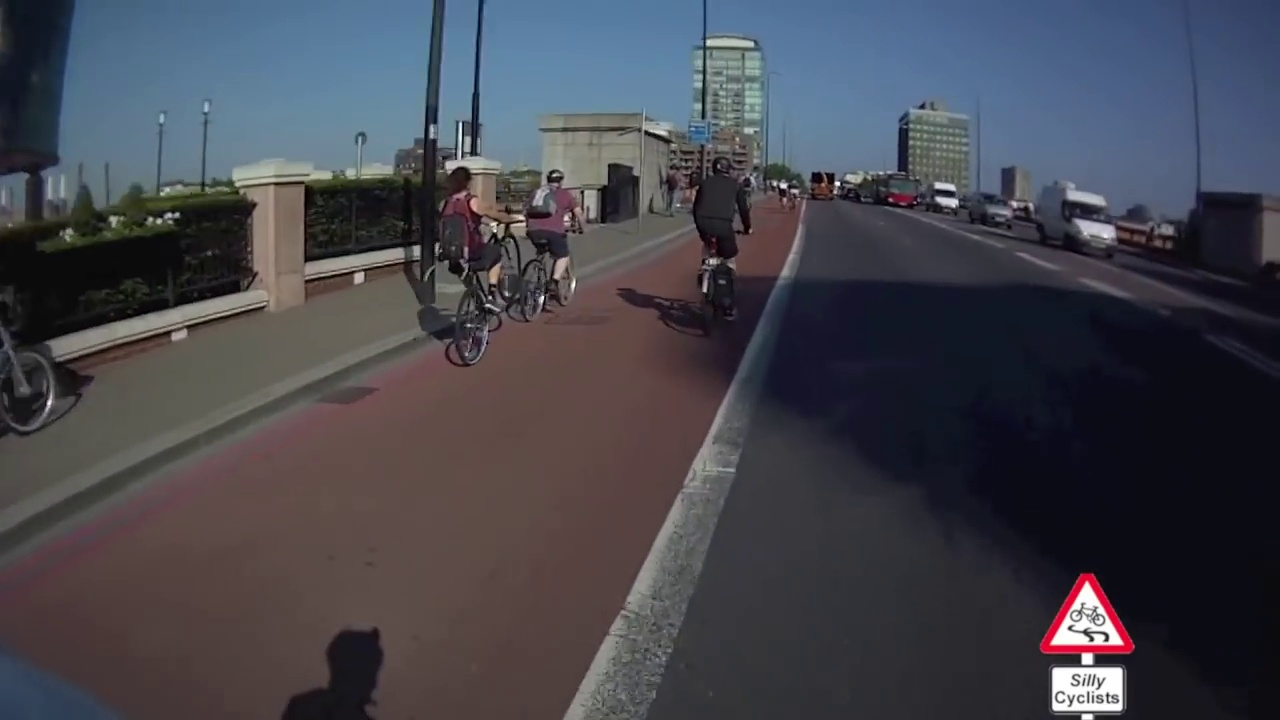cyclist_back: (433, 169, 523, 366), (518, 168, 587, 327), (690, 156, 753, 318)
